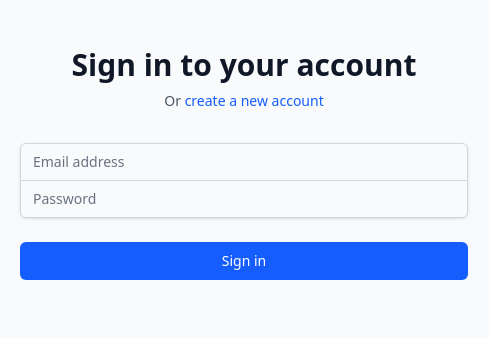
Login › shows error message on login failure
The image size is (489, 338).
Type "test@example.com" into the field with placeholder "Email address".
click(244, 162); type("test@example.com")  # box [20,142,468,180]
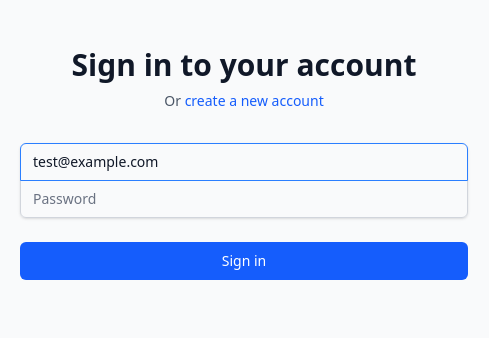
Type "wrongpassword" into the password field with placeholder "Password".
click(244, 198); type("wrongpassword")  # box [20,180,468,218]
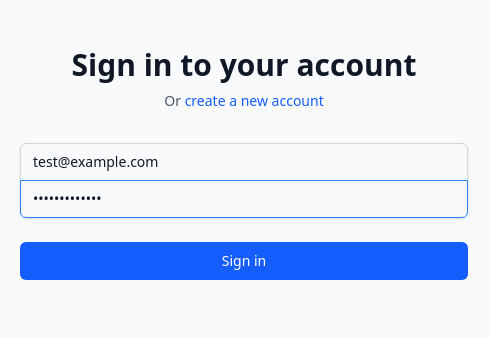
Click the button "Sign in".
click(244, 260)  # box [20,242,468,280]
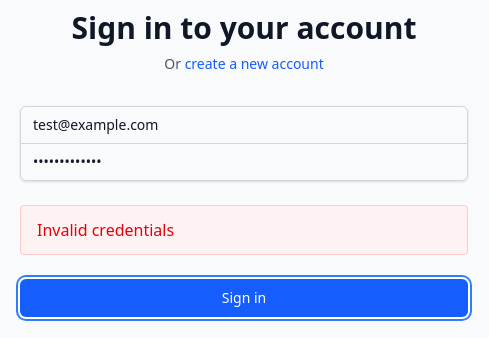
Expected: the text "Invalid credentials" is shown, [20,204,468,254]
